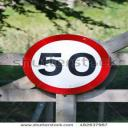speed_limit_50: (22, 33, 112, 94)
